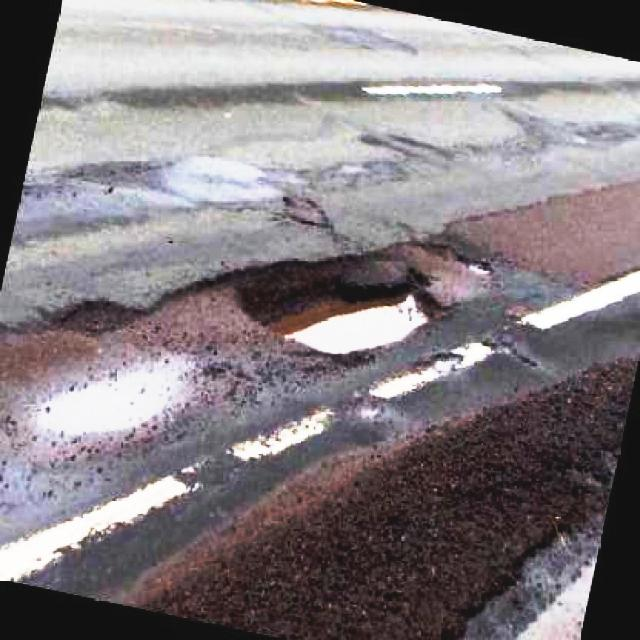pothole: (226, 260, 446, 357)
